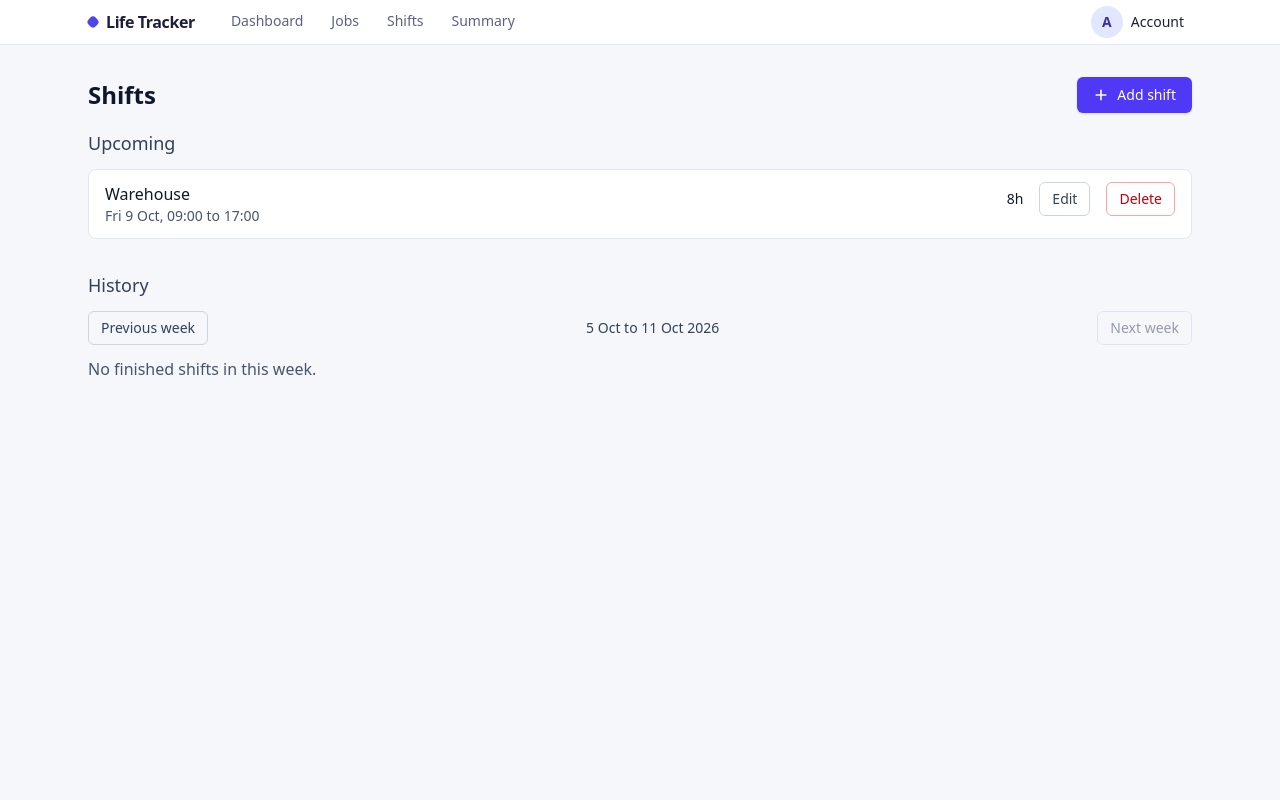
Scenario: ShiftsPage › edits a shift in a dialog and reloads both lists
Click the button "Edit": [1065, 199] box [1039,182,1090,216]
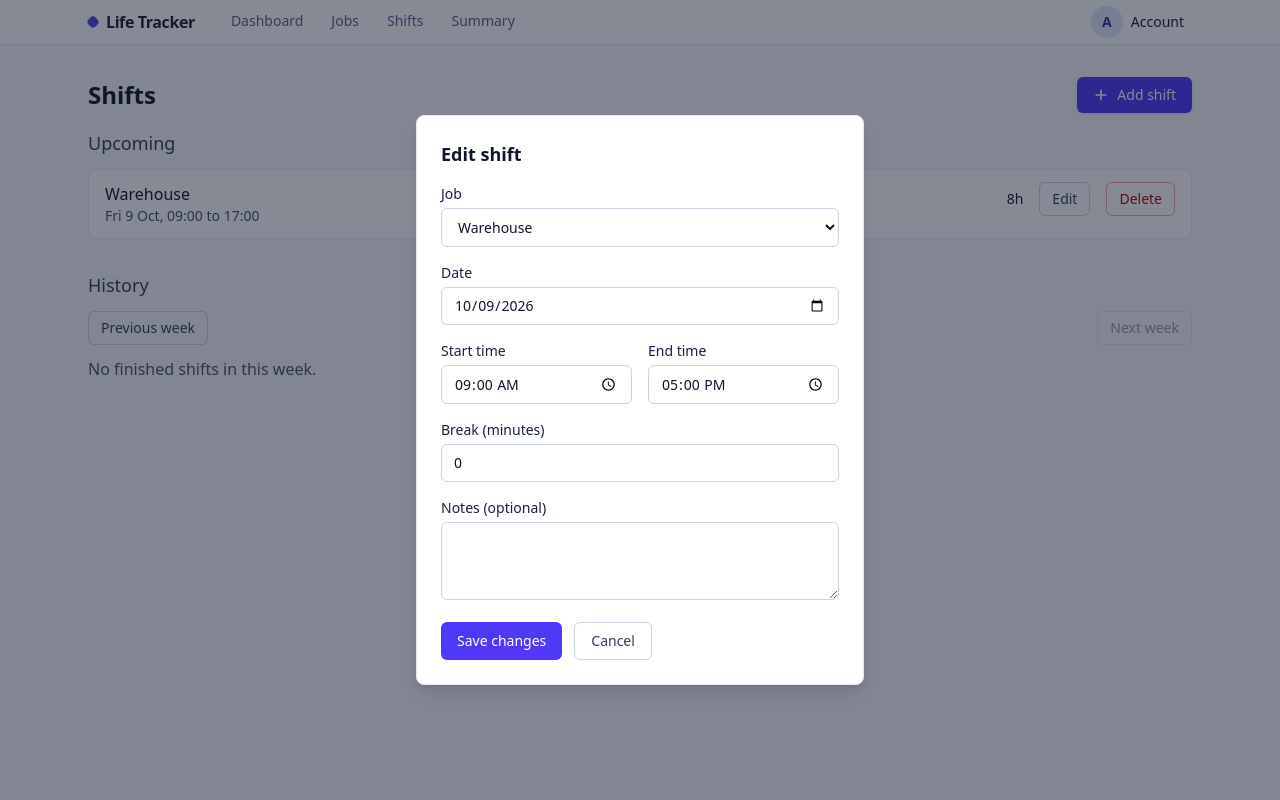
Result: the dropdown labelled "Job" shows "Warehouse" at [441,208,839,247]
Result: the date field labelled "Date" holds "2026-10-09" at [441,287,839,325]
Replace the text in the time field labelled "Start time" with "10:00": [536, 385] box [441,365,632,404]
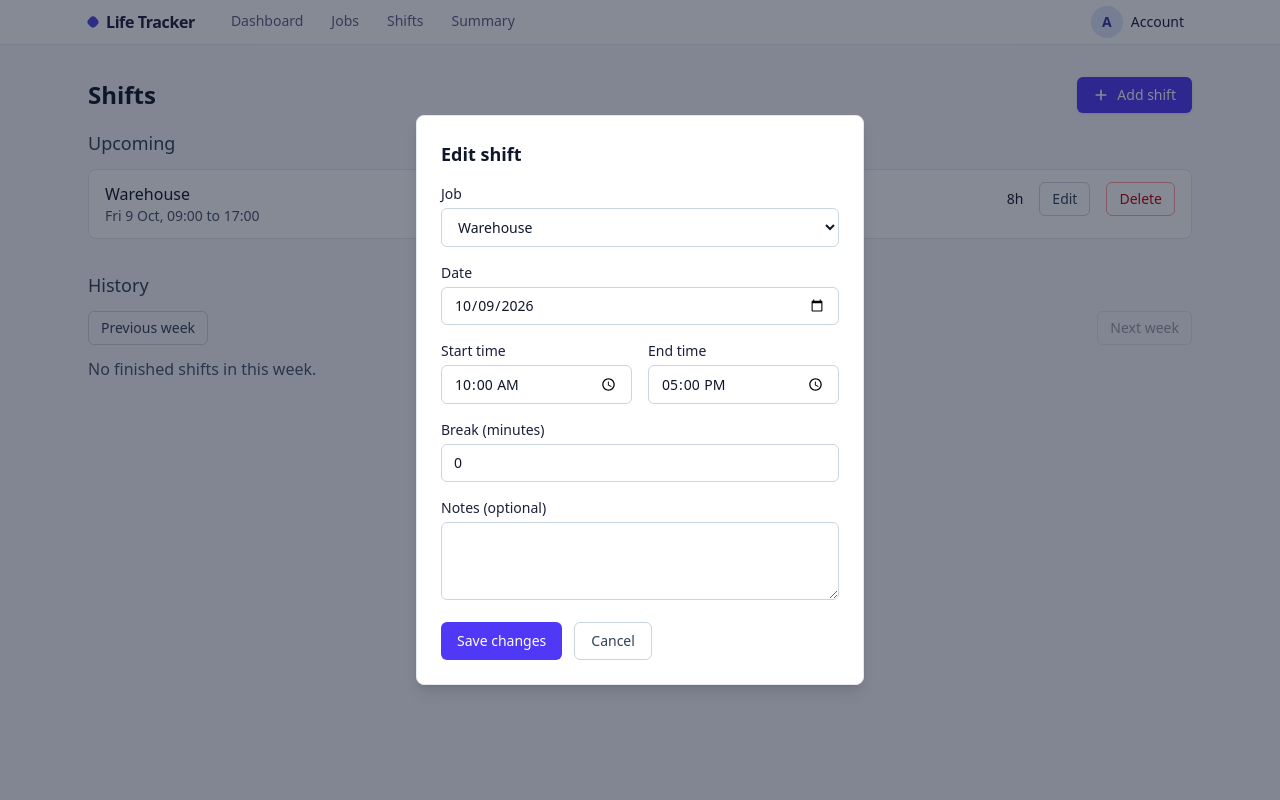
Click the button "Save changes": [502, 641] box [441,622,562,660]
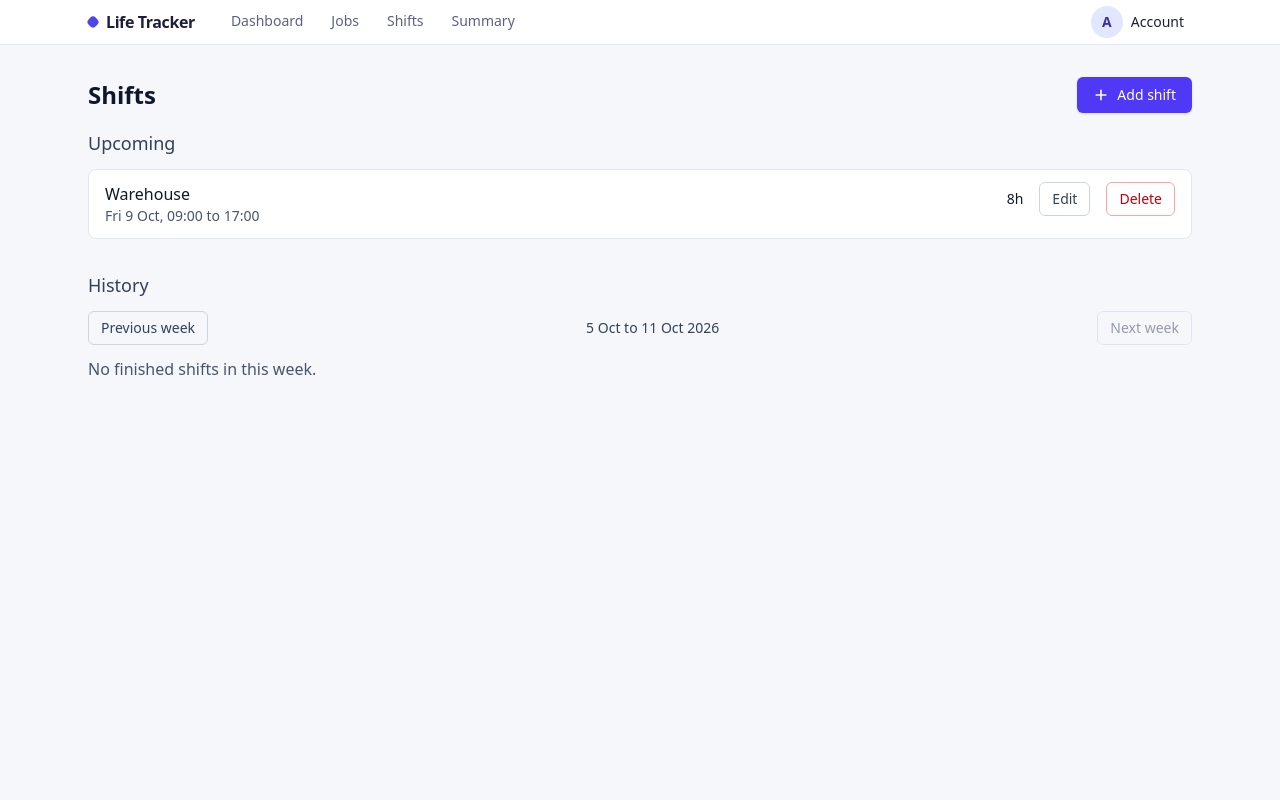
Result: the dialog is gone
